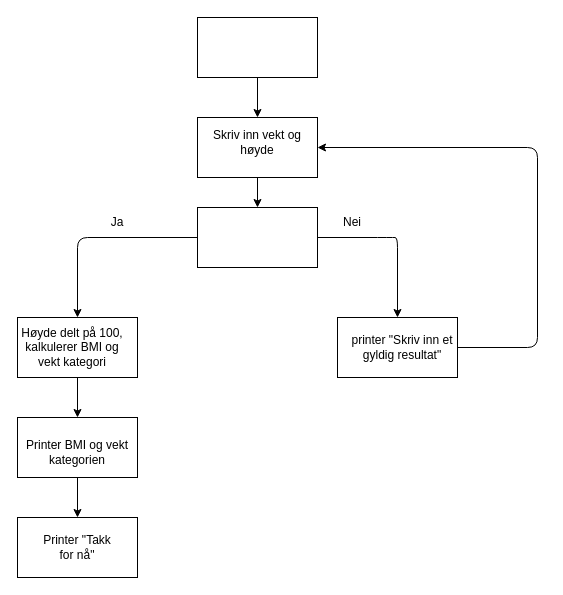
Image size: 563x595. Some labels were removed from this diagram. The shapes that lost their labels are listed below. From the top down, each one's centre as x and y in pixels, then its label:
[257,47]: printer "BMI-kalkulator"
[257,237]: Er dette gyldig?
